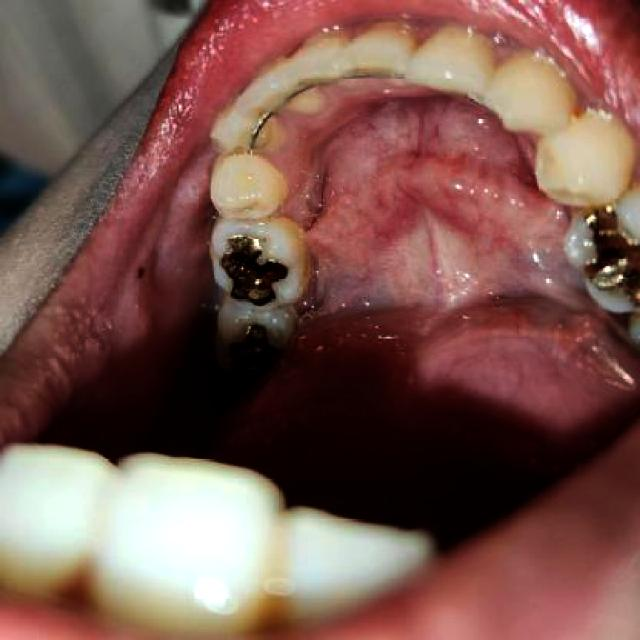Plaque: (235, 185, 264, 221)
